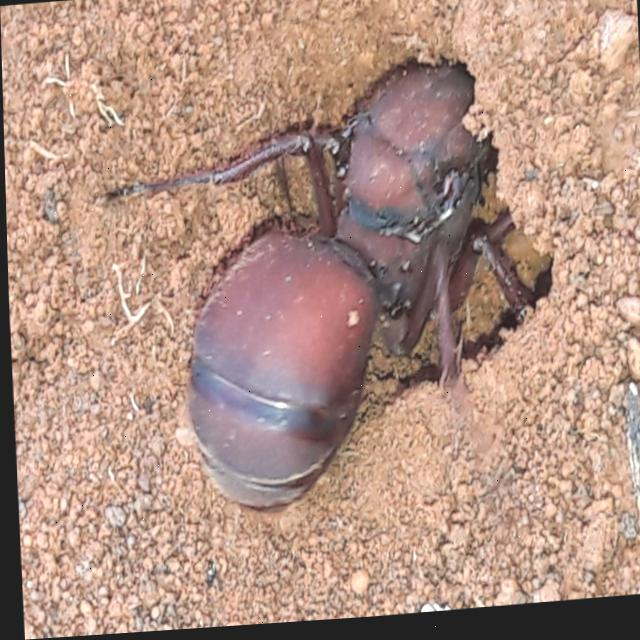Alive-Female-Dealate: (92, 0, 602, 529)
